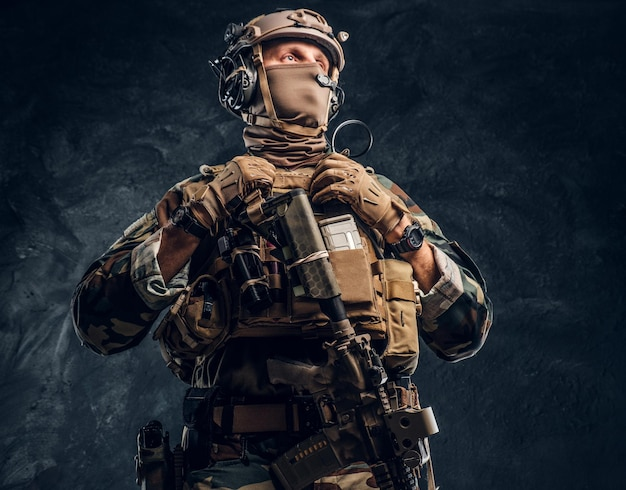gun: (247, 188, 439, 490)
